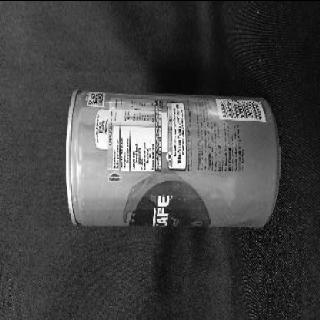alumunium_can: (67, 89, 280, 228)
